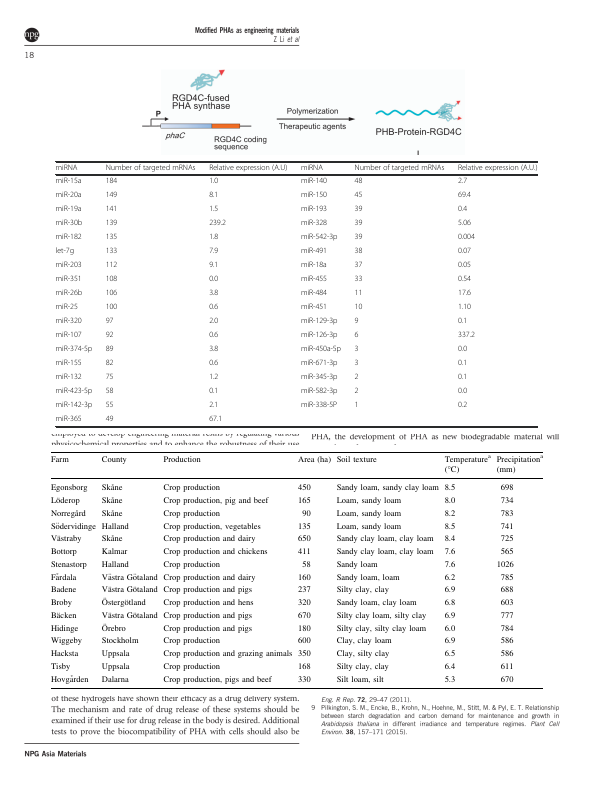borderless: (54, 160, 537, 426), (50, 450, 543, 688)
cell: (162, 649, 293, 659), (162, 675, 272, 685), (443, 453, 492, 475), (495, 453, 544, 475), (162, 496, 269, 506), (162, 547, 268, 557), (335, 484, 440, 494), (162, 522, 261, 532), (335, 535, 434, 545), (335, 547, 434, 557), (162, 535, 256, 545), (162, 573, 256, 583), (162, 598, 254, 608), (335, 611, 427, 621), (335, 624, 427, 634), (162, 586, 253, 596), (162, 611, 253, 621), (162, 624, 253, 634), (353, 164, 445, 173), (335, 598, 417, 608), (105, 164, 196, 173), (457, 164, 538, 173), (208, 164, 288, 173), (335, 496, 402, 506), (335, 509, 402, 519), (335, 522, 402, 532), (335, 573, 400, 583), (162, 484, 221, 494), (162, 509, 221, 519), (162, 560, 221, 570), (162, 637, 221, 647), (162, 662, 221, 672), (100, 573, 158, 583), (100, 586, 158, 596), (100, 611, 158, 621), (335, 637, 392, 647), (335, 649, 390, 659), (335, 586, 389, 596), (335, 662, 389, 672), (100, 597, 146, 608), (335, 675, 384, 685), (50, 522, 97, 532), (335, 560, 378, 570), (335, 455, 377, 465), (300, 345, 342, 355), (162, 455, 201, 465), (100, 637, 139, 647), (50, 675, 89, 685), (50, 484, 88, 494), (300, 233, 338, 243), (300, 317, 338, 327), (300, 331, 338, 341), (55, 345, 93, 355), (300, 359, 338, 369), (300, 373, 338, 383), (55, 387, 93, 397), (300, 387, 338, 397), (55, 401, 93, 411), (300, 401, 338, 411), (50, 560, 87, 570), (50, 509, 86, 519), (297, 455, 332, 465), (50, 637, 83, 647), (50, 535, 82, 545), (100, 622, 126, 634), (50, 496, 80, 506), (100, 649, 130, 659), (100, 662, 130, 672), (100, 522, 129, 532), (100, 560, 129, 570), (50, 624, 79, 634), (50, 649, 79, 659), (100, 675, 129, 685), (100, 547, 128, 557), (300, 177, 328, 187), (300, 191, 328, 201), (300, 205, 328, 215), (55, 219, 83, 229), (300, 219, 328, 229), (300, 247, 328, 257), (300, 261, 328, 271), (300, 275, 328, 285), (55, 289, 83, 299), (300, 289, 328, 299), (300, 303, 328, 313), (100, 455, 127, 465), (50, 547, 77, 557), (50, 573, 77, 583), (50, 586, 77, 596), (50, 611, 77, 621), (55, 177, 82, 187), (55, 191, 82, 201), (55, 205, 82, 215), (55, 233, 82, 243), (55, 261, 82, 271), (55, 275, 82, 285), (55, 317, 82, 327), (55, 331, 82, 341), (55, 359, 82, 369), (55, 373, 82, 383), (55, 415, 82, 425), (100, 483, 123, 494), (100, 534, 123, 545), (55, 303, 79, 313), (100, 496, 123, 506), (100, 509, 123, 519), (50, 598, 73, 608), (300, 164, 324, 173), (50, 662, 71, 672), (55, 164, 78, 173), (49, 455, 69, 465), (55, 247, 75, 257), (495, 560, 514, 570), (208, 219, 227, 229), (457, 233, 476, 243), (457, 331, 476, 341), (499, 484, 514, 494), (499, 496, 514, 506), (499, 509, 514, 519), (499, 522, 514, 532), (499, 535, 514, 545), (499, 547, 514, 557), (499, 573, 514, 583), (499, 586, 514, 596), (499, 598, 514, 608), (499, 611, 514, 621), (499, 624, 514, 634), (499, 637, 514, 647), (499, 649, 514, 659), (499, 662, 514, 672), (499, 675, 514, 685), (457, 191, 472, 201), (457, 219, 472, 229), (457, 247, 472, 257), (457, 261, 472, 271), (457, 275, 472, 285), (457, 289, 472, 299), (457, 303, 472, 313), (208, 415, 223, 425), (297, 484, 311, 494), (297, 496, 311, 506), (297, 522, 311, 532), (297, 535, 311, 545), (297, 547, 311, 557), (297, 573, 311, 583), (297, 586, 311, 596), (297, 598, 311, 608), (297, 611, 311, 621), (297, 624, 311, 634), (297, 637, 311, 647), (297, 649, 311, 659), (297, 662, 311, 672), (297, 675, 311, 685), (443, 484, 456, 494), (443, 496, 456, 506), (443, 509, 456, 519), (443, 522, 456, 532), (443, 535, 456, 545), (443, 547, 456, 557), (443, 560, 456, 570), (443, 573, 456, 583), (443, 586, 456, 596), (443, 598, 456, 608), (443, 611, 456, 621), (443, 624, 456, 634), (443, 637, 456, 647), (443, 649, 456, 659), (443, 662, 456, 672), (443, 675, 456, 685), (105, 177, 118, 187), (105, 191, 118, 201), (105, 205, 118, 215), (105, 219, 118, 229), (105, 233, 118, 243), (105, 247, 118, 257), (105, 261, 118, 271), (105, 275, 118, 285), (105, 289, 118, 299), (105, 303, 118, 313), (208, 177, 219, 187), (457, 177, 468, 187), (208, 191, 219, 201), (208, 205, 219, 215), (457, 205, 468, 215), (208, 233, 219, 243), (208, 247, 219, 257), (208, 261, 219, 271), (208, 275, 219, 285), (208, 289, 219, 299), (208, 303, 219, 313), (208, 317, 219, 327), (457, 317, 468, 327), (208, 331, 219, 341), (208, 345, 219, 355), (457, 345, 468, 355), (208, 359, 219, 369), (457, 359, 468, 369), (208, 373, 219, 383), (457, 373, 468, 383), (208, 387, 219, 397), (457, 387, 468, 397), (208, 401, 219, 411), (457, 401, 468, 411), (301, 509, 311, 519), (301, 560, 311, 570), (353, 177, 363, 187), (353, 191, 363, 201), (353, 205, 363, 215), (353, 219, 363, 229), (353, 233, 363, 243), (353, 247, 363, 257), (353, 261, 363, 271), (353, 275, 363, 285), (353, 289, 363, 299), (353, 303, 363, 313), (105, 317, 114, 327), (105, 331, 114, 341), (105, 345, 114, 355), (105, 359, 114, 369), (105, 373, 114, 383), (105, 387, 114, 397), (105, 401, 114, 411), (105, 415, 114, 425), (353, 317, 359, 327), (353, 331, 359, 341), (353, 345, 359, 355), (353, 359, 359, 369), (353, 373, 359, 383), (353, 387, 359, 397), (353, 401, 359, 411)
